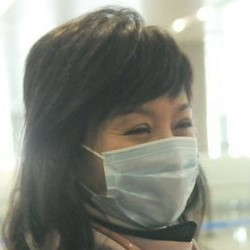mask: (77, 138, 201, 229)
